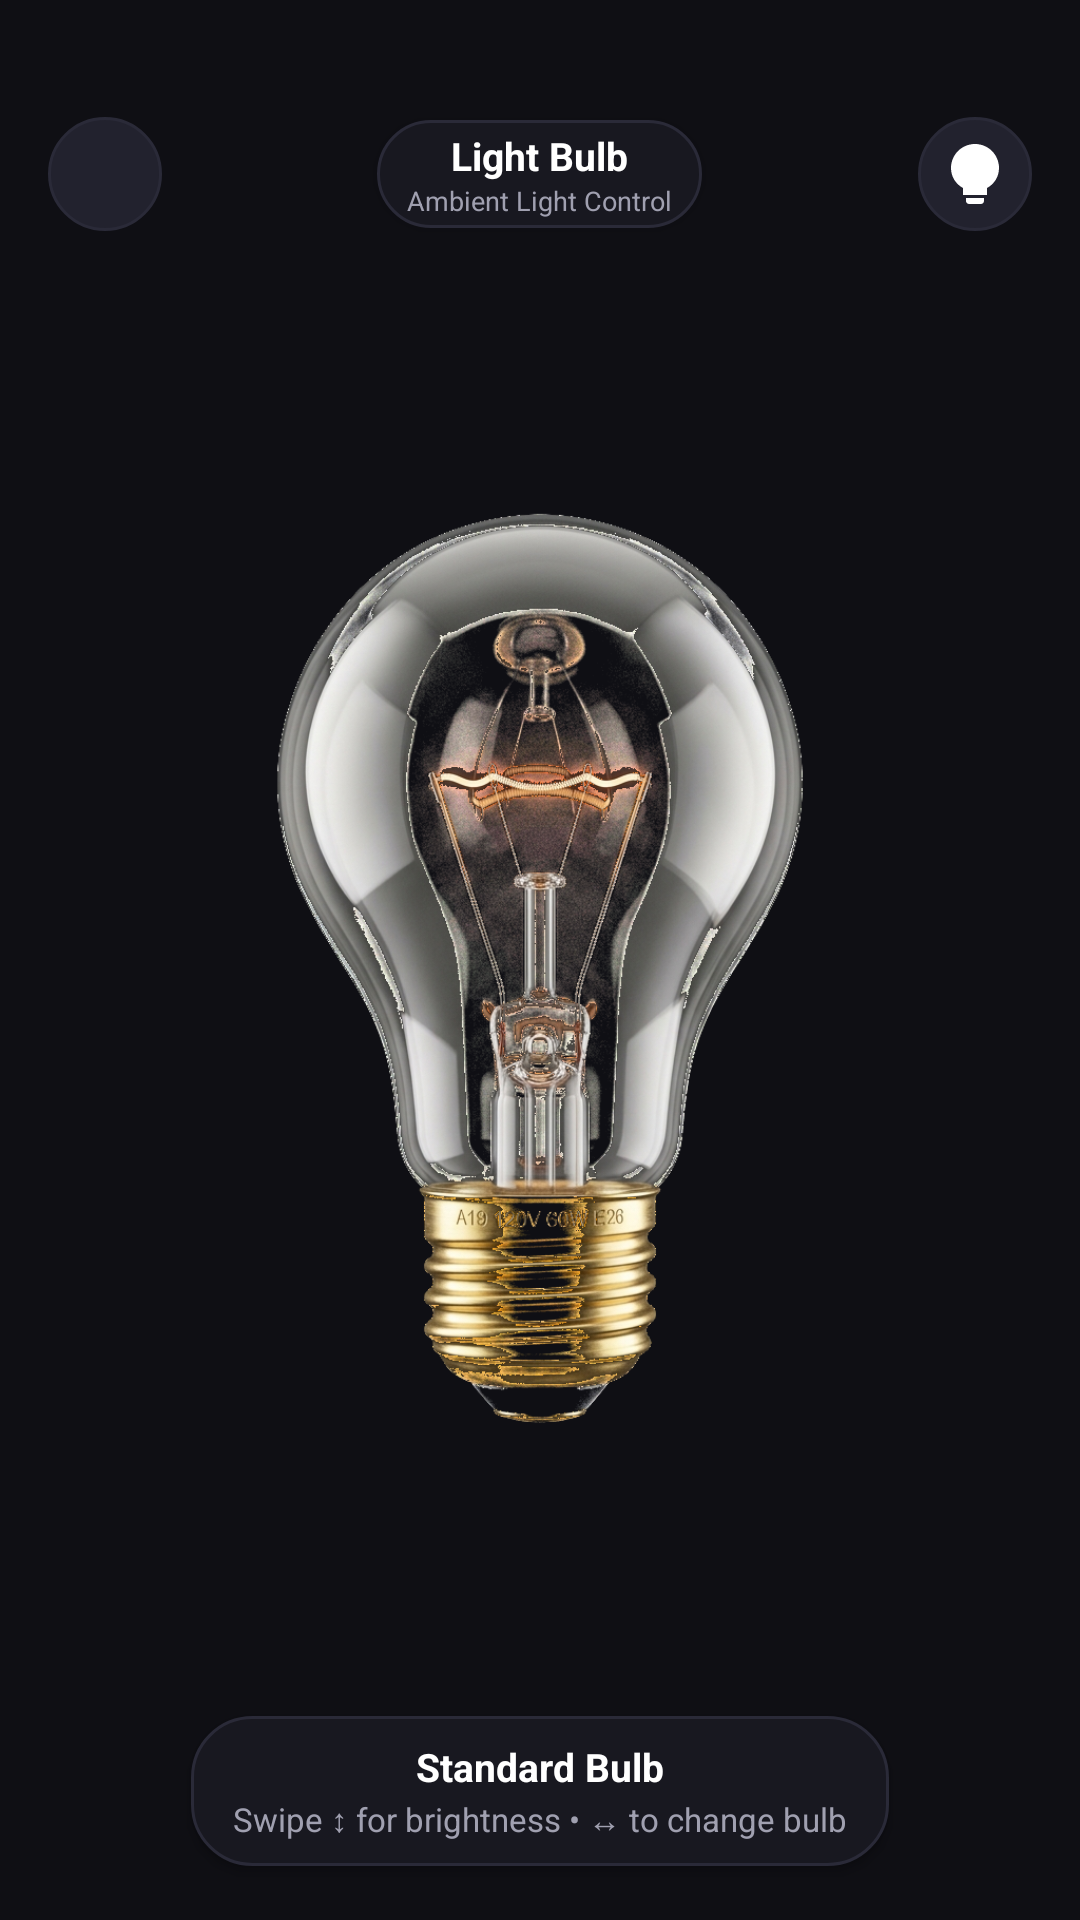

Locate icon controls on the screen. Image size 1080px×1920px, boxes as bbox=(x1, y1, x2, y2).
Select Light Source Type: bbox=(918, 117, 1032, 231)
